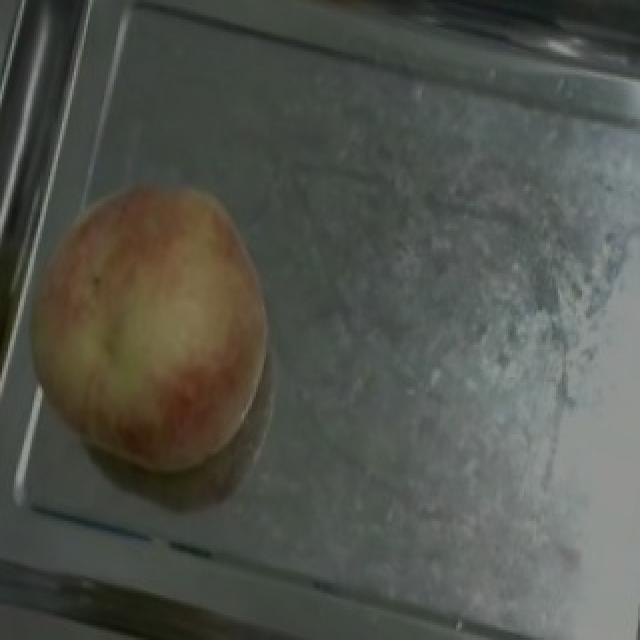Fruit: (0, 146, 310, 526)
